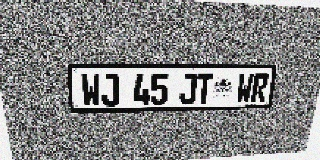4: (133, 73, 151, 106)
5: (151, 73, 168, 105)
J: (100, 73, 119, 106), (179, 73, 197, 105)
R: (250, 73, 269, 103)
T: (195, 73, 214, 104)
W: (80, 73, 101, 107), (235, 73, 254, 103)
